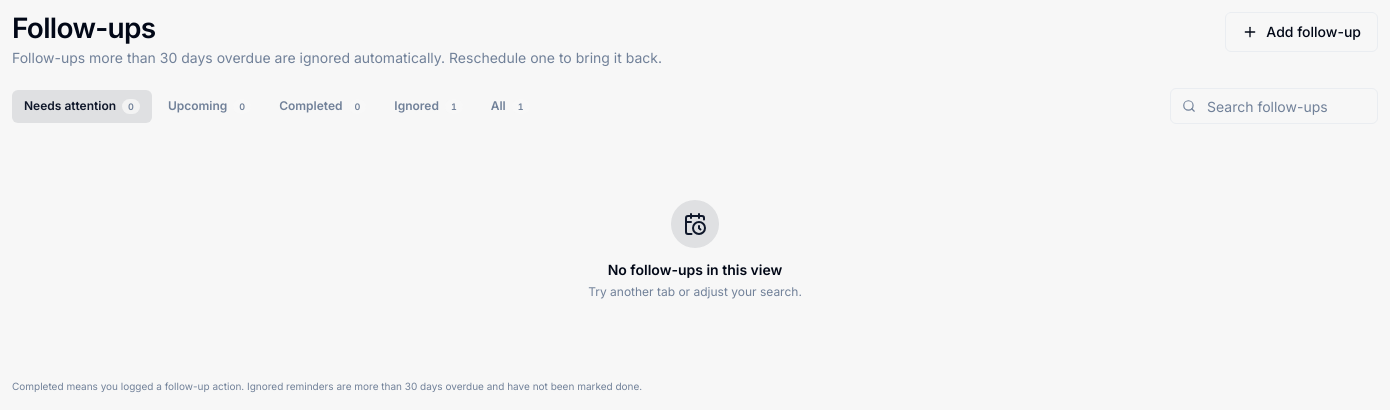
FollowUps › completes an ignored reminder and removes its active schedule
Click the tab "Ignored1" at [428, 106], box [382, 90, 475, 122]
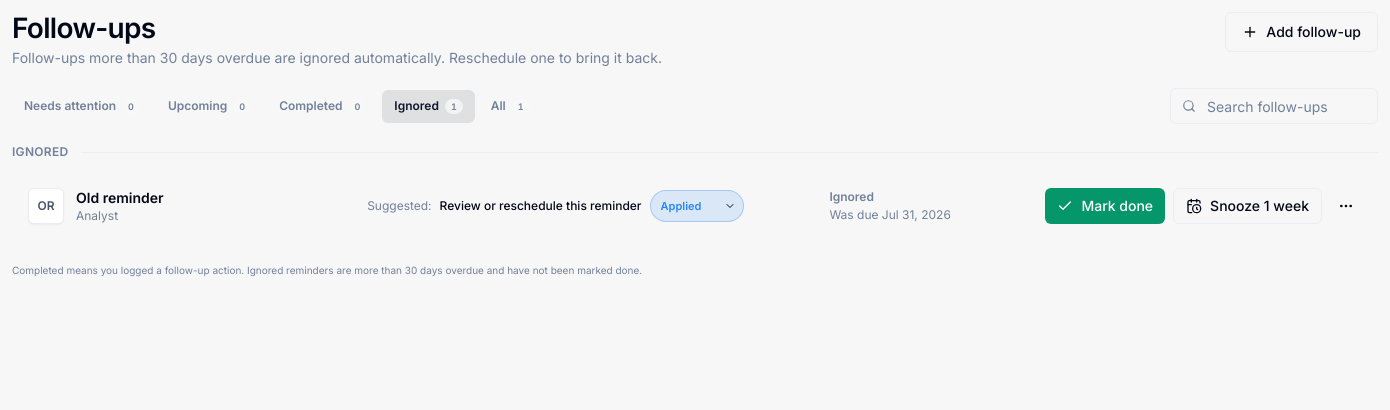
Press ArrowDown in the button named "Actions for Old reminder", box [1330, 190, 1362, 222]
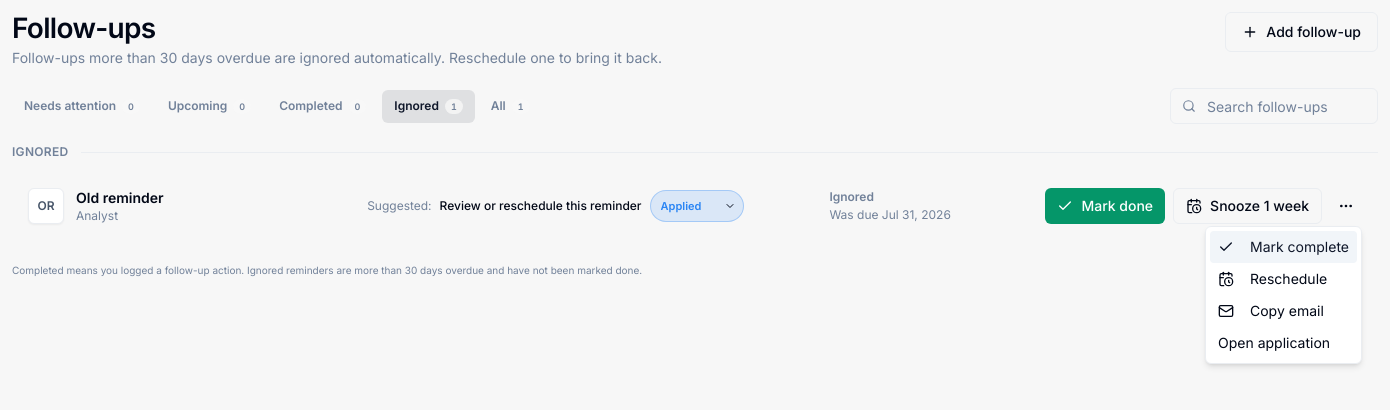
Expected: the menu is shown, [1205, 226, 1362, 364]
Click the menu item "Mark complete" at [1284, 247], box [1210, 231, 1357, 263]
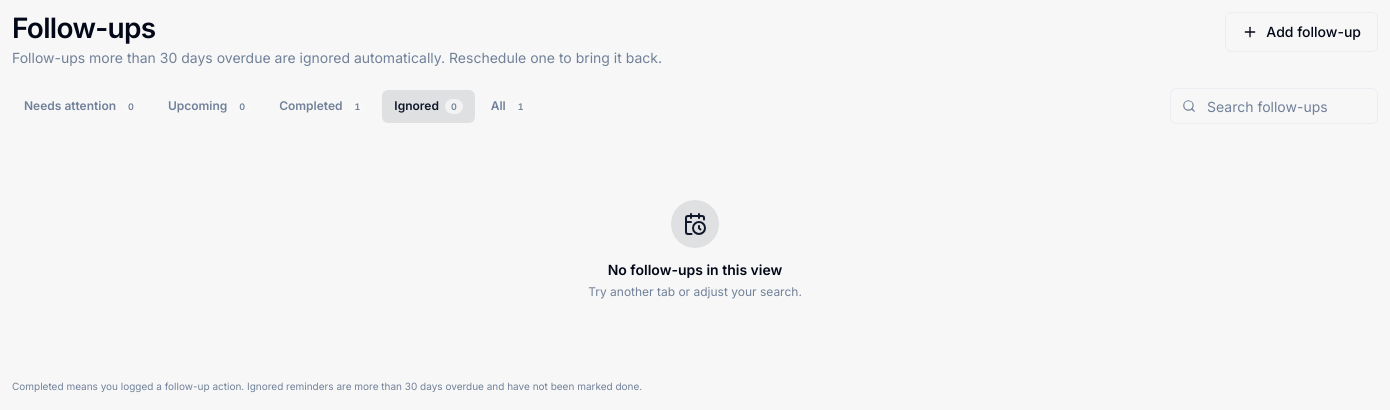
Click the tab "Completed1" at [323, 106], box [267, 90, 378, 122]
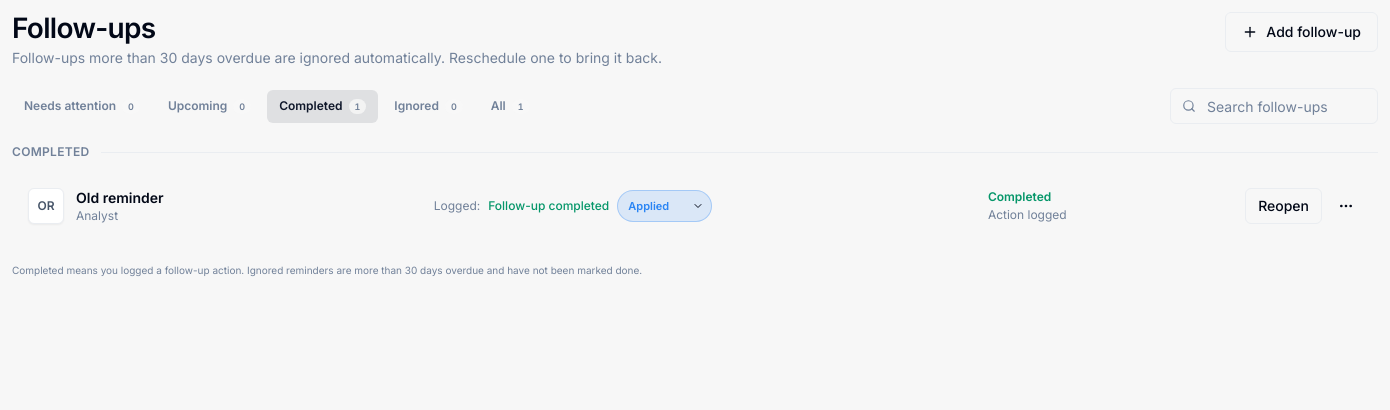
Expected: the text "Old reminder" is shown, [76, 188, 164, 208]
